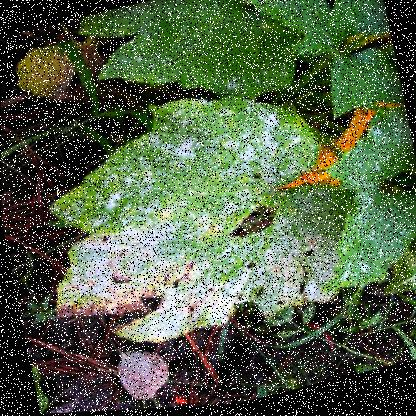PowderyMildew: (74, 147, 237, 299), (179, 114, 304, 220)
